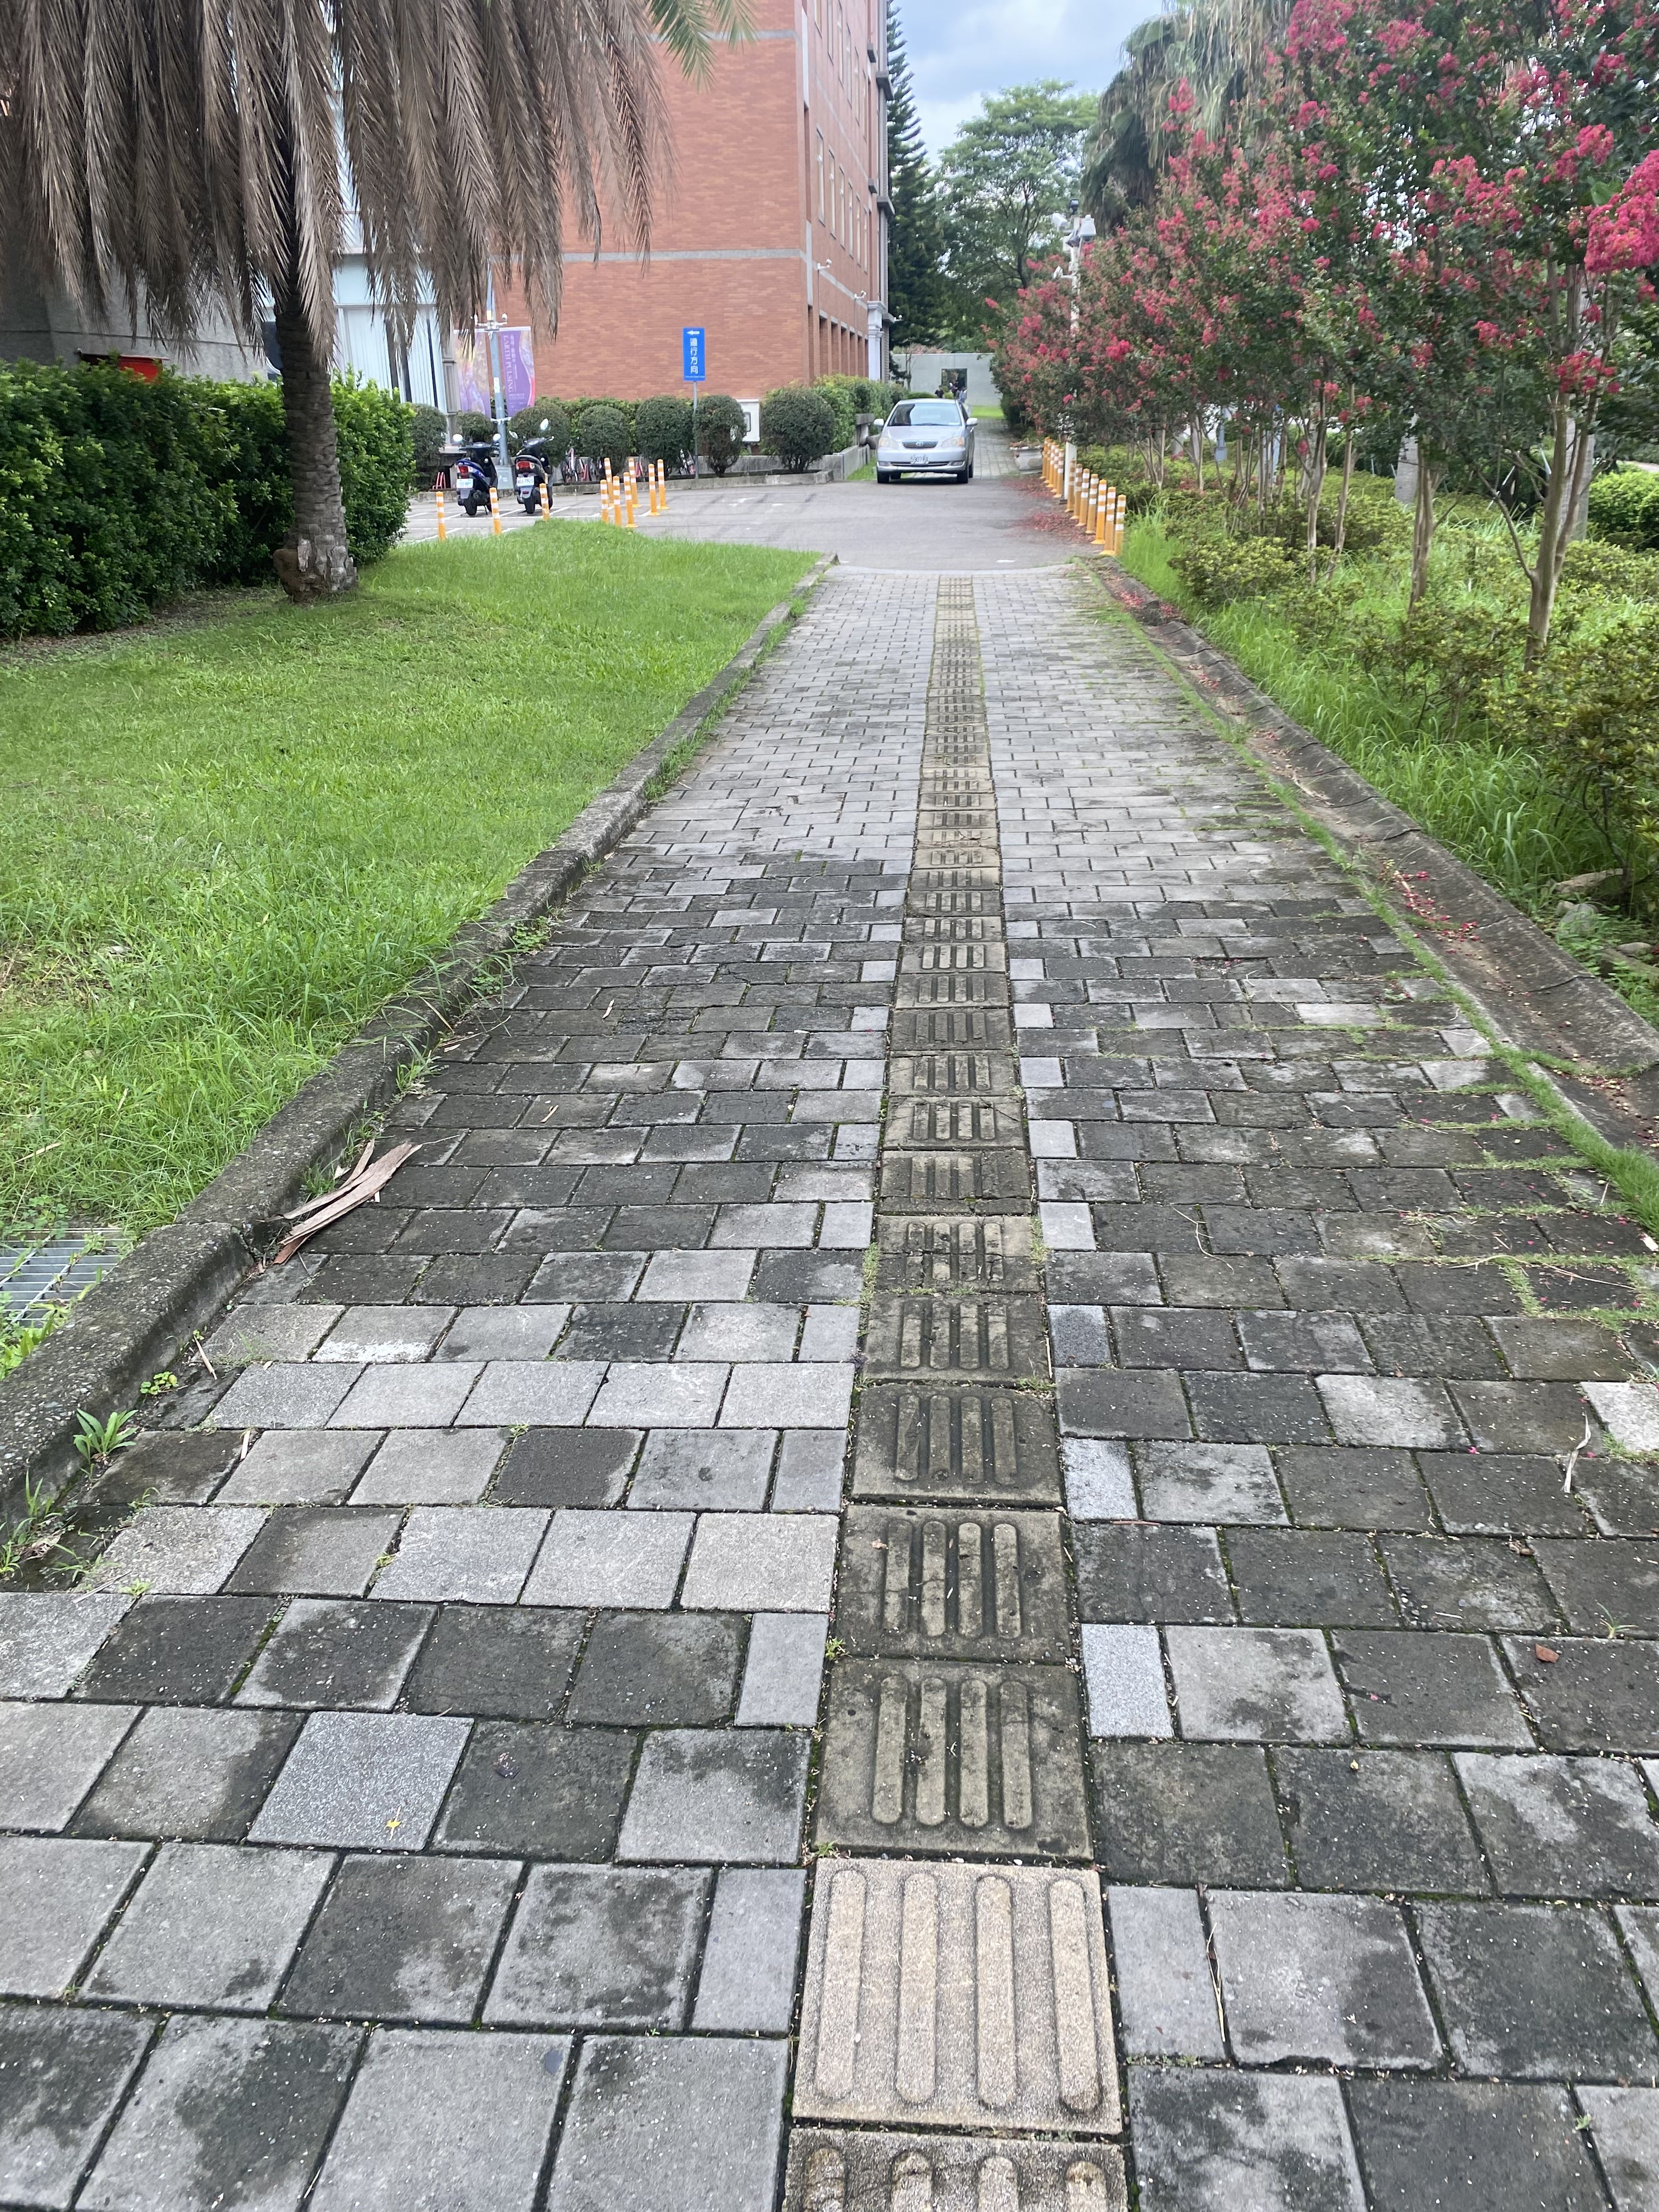0: (5, 831, 1659, 2212)
sidewalk: (495, 557, 1486, 1512)
